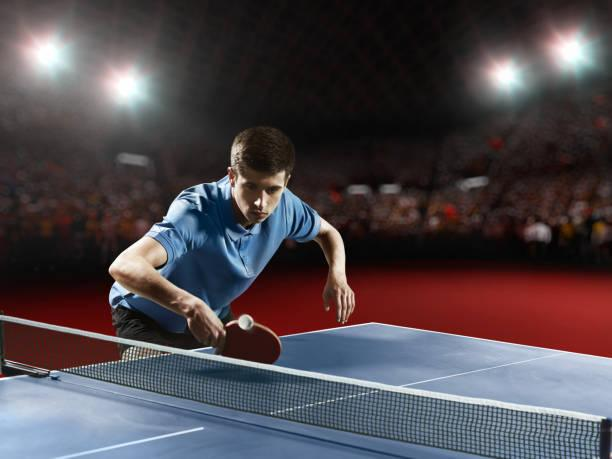ball_pingpong: (238, 312, 254, 331)
